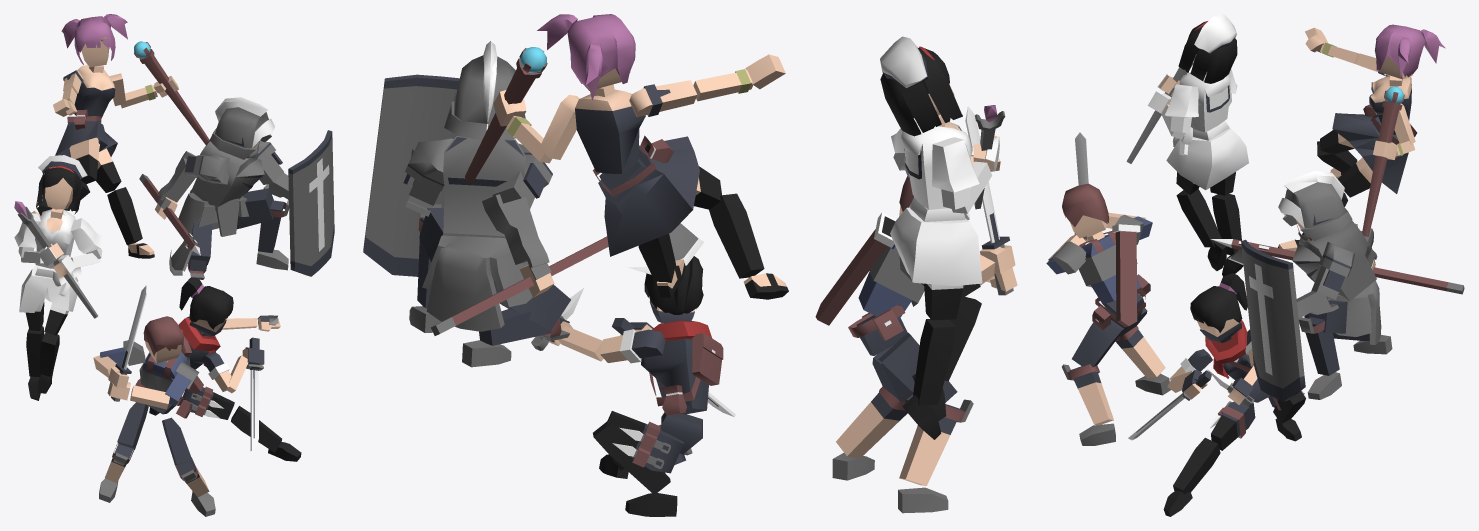
The model's file is Allstar.fbx.
The picture shows the model from 3 angles, left to right: view 1: azimuth 30°, elevation 25°; view 2: azimuth 150°, elevation 25°; view 3: azimuth 270°, elevation 25°; orthographic projection. The views are drawn at different scales.
Visible parts, largest first — view 1: obj3, obj4, Head, obj1, obj2; view 2: obj3, obj4, Head, obj1, obj2; view 3: obj3, obj1, Head, obj4, obj2.
Part boxes in pixels (x1=…): obj3: x1=139, y1=97, x2=334, y2=279; obj4: x1=31, y1=14, x2=209, y2=258; Head: x1=14, y1=155, x2=102, y2=400; obj1: x1=93, y1=285, x2=215, y2=516; obj2: x1=149, y1=277, x2=301, y2=461; obj3: x1=363, y1=41, x2=703, y2=367; obj4: x1=465, y1=14, x2=788, y2=299; Head: x1=880, y1=36, x2=1005, y2=439; obj1: x1=815, y1=106, x2=1017, y2=513; obj2: x1=531, y1=256, x2=735, y2=516; obj3: x1=1210, y1=171, x2=1464, y2=401; obj1: x1=1046, y1=132, x2=1170, y2=445; Head: x1=1126, y1=14, x2=1248, y2=276; obj4: x1=1278, y1=24, x2=1445, y2=251; obj2: x1=1128, y1=273, x2=1305, y2=516.
Size of the model in its own units: 183 by 187 by 164.
